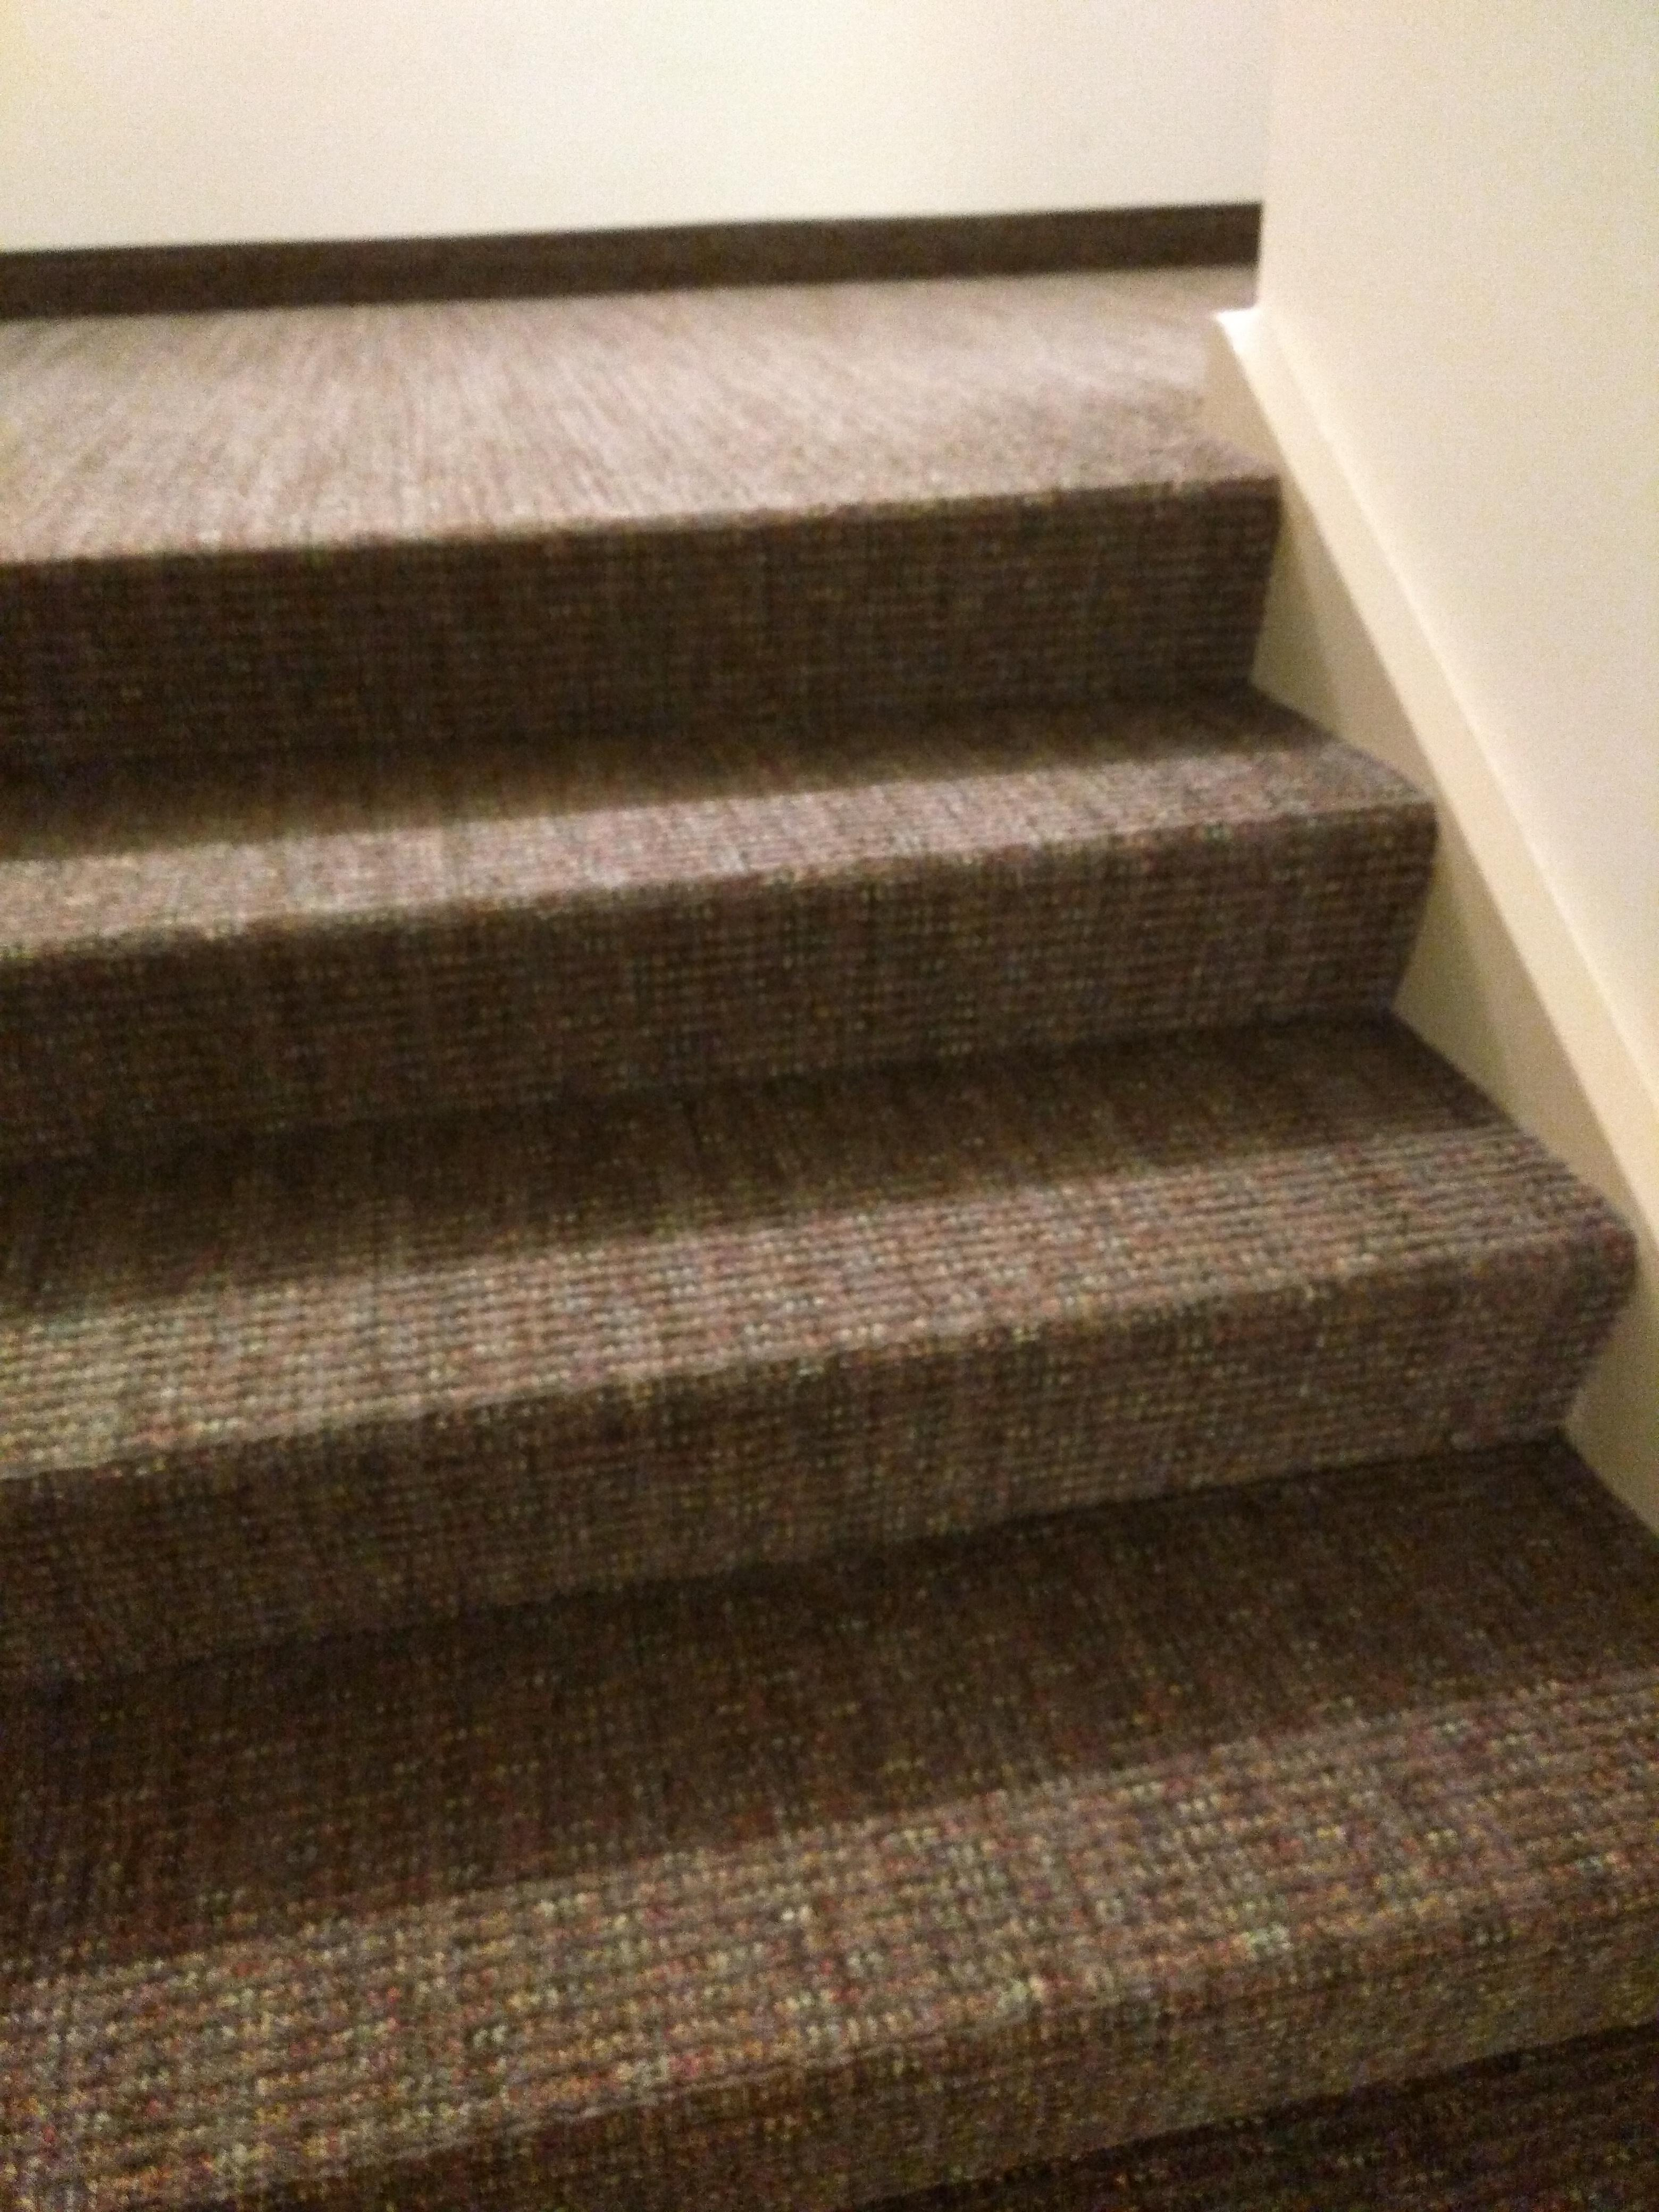stairs_up: (12, 467, 1631, 2193)
